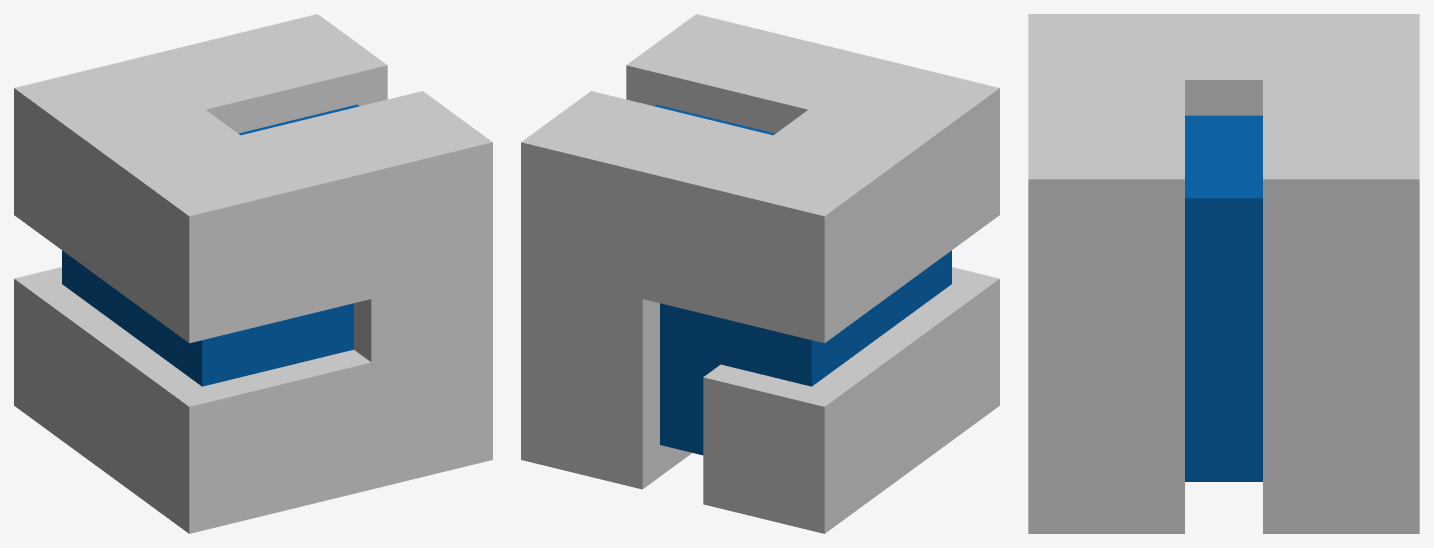
File: Bloc01_fige.FBX
The picture shows the model from 3 angles, left to right: view 1: azimuth 30°, elevation 25°; view 2: azimuth 150°, elevation 25°; view 3: azimuth 270°, elevation 25°; orthographic projection. The views are drawn at different scales.
Parts seen in each view (by area): view 1: Box003; view 2: Box003; view 3: Box003.
Boxes of the visible parts, bbox=[...] form: Box003: bbox=[14, 14, 492, 533]; Box003: bbox=[521, 14, 999, 533]; Box003: bbox=[1028, 14, 1419, 533].
Size of the model in its own units: 100 by 100 by 100.
